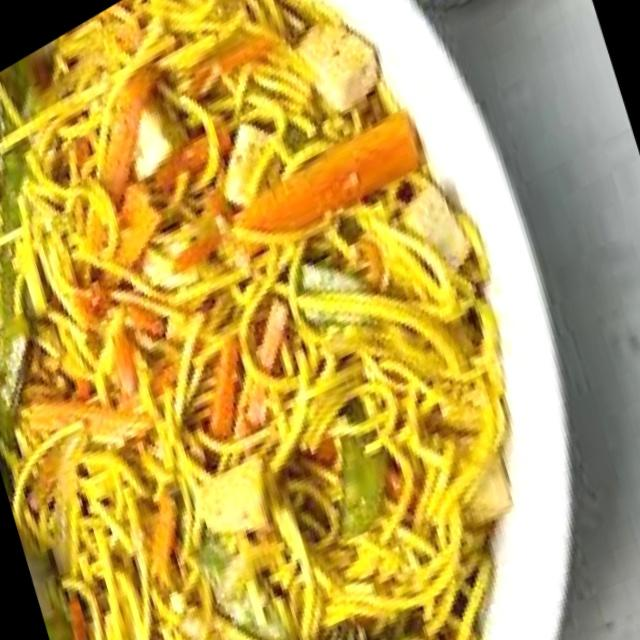pancit bihon: (3, 0, 508, 639)
